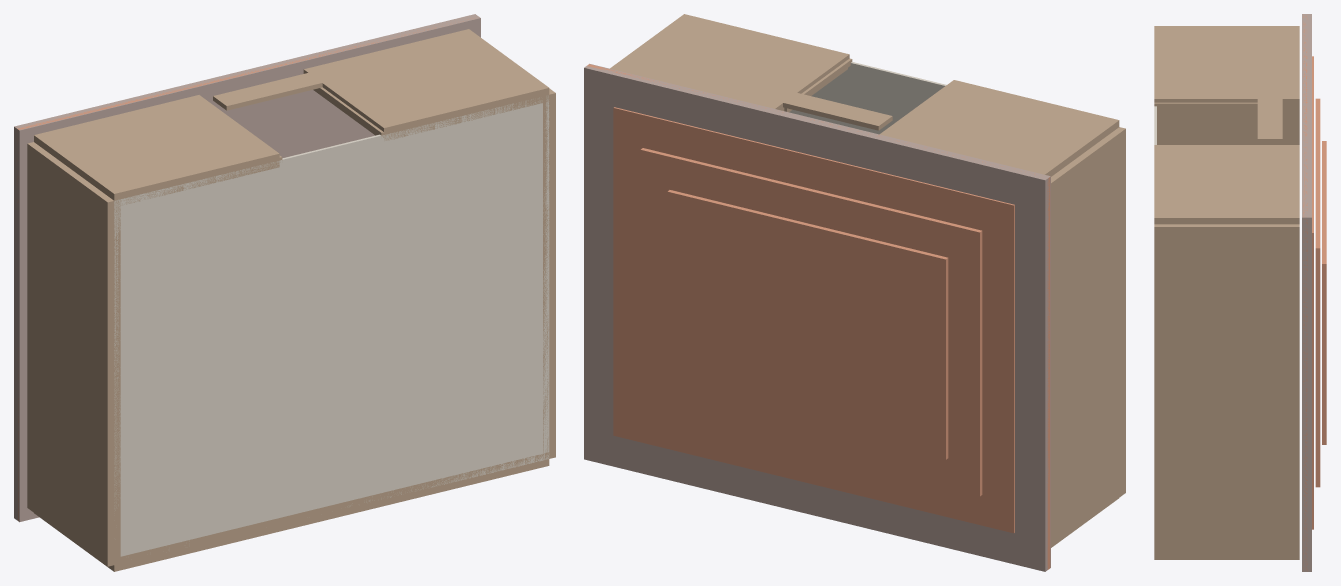
The model's file is building_tea.glb.
3 views of the same model, side by side, from view 1: azimuth 30°, elevation 25°; view 2: azimuth 150°, elevation 25°; view 3: azimuth 270°, elevation 25° (orthographic). The views are drawn at different scales.
Parts seen in each view (by area): view 1: building_tea_floor, building_tea_w, building_tea_roof, building_tea_s_l, building_tea_s_r, building_tea_n, building_tea_e, building_tea_sign, building_tea_tile0; view 2: building_tea_tile3, building_tea_roof, building_tea_tile1, building_tea_tile2, building_tea_w, building_tea_s_l, building_tea_s_r, building_tea_floor, building_tea_sign, building_tea_tile0; view 3: building_tea_e, building_tea_s_r, building_tea_s_l, building_tea_roof, building_tea_w, building_tea_tile2, building_tea_tile3, building_tea_sign, building_tea_tile0, building_tea_tile1, building_tea_jamb_l, building_tea_n.
Part boxes in pixels (bbox=[...]): building_tea_floor: bbox=[114, 95, 549, 556]; building_tea_w: bbox=[27, 142, 120, 566]; building_tea_roof: bbox=[14, 14, 480, 522]; building_tea_s_l: bbox=[34, 95, 279, 206]; building_tea_s_r: bbox=[303, 29, 549, 140]; building_tea_n: bbox=[34, 452, 549, 571]; building_tea_e: bbox=[543, 88, 555, 459]; building_tea_sign: bbox=[213, 72, 322, 110]; building_tea_tile0: bbox=[17, 18, 475, 521]; building_tea_tile3: bbox=[667, 190, 948, 459]; building_tea_roof: bbox=[584, 63, 1050, 571]; building_tea_tile1: bbox=[613, 107, 1014, 533]; building_tea_tile2: bbox=[640, 148, 982, 496]; building_tea_w: bbox=[1051, 127, 1125, 547]; building_tea_s_l: bbox=[880, 80, 1119, 176]; building_tea_s_r: bbox=[610, 14, 849, 112]; building_tea_floor: bbox=[789, 62, 946, 134]; building_tea_sign: bbox=[783, 93, 892, 130]; building_tea_tile0: bbox=[587, 64, 1050, 569]; building_tea_e: bbox=[1154, 224, 1299, 556]; building_tea_s_r: bbox=[1154, 145, 1299, 224]; building_tea_s_l: bbox=[1154, 26, 1299, 111]; building_tea_roof: bbox=[1302, 14, 1311, 571]; building_tea_w: bbox=[1157, 111, 1299, 144]; building_tea_tile2: bbox=[1315, 98, 1320, 487]; building_tea_tile3: bbox=[1322, 141, 1326, 444]; building_tea_sign: bbox=[1257, 96, 1282, 142]; building_tea_tile0: bbox=[1303, 14, 1307, 571]; building_tea_tile1: bbox=[1312, 56, 1313, 529]; building_tea_jamb_l: bbox=[1154, 102, 1257, 108]; building_tea_n: bbox=[1154, 556, 1299, 559].
Bounding box in the file's own units: 10.6 × 8.6 × 3.79.
